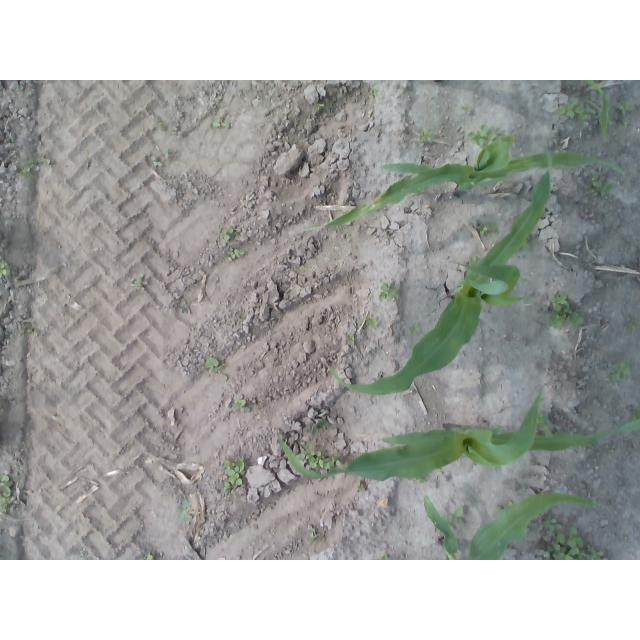Maize: (327, 154, 553, 400), (294, 135, 626, 235), (280, 394, 640, 482), (423, 494, 602, 560), (435, 80, 610, 138)
Weeds: (543, 528, 586, 561), (548, 294, 585, 330), (294, 444, 346, 469), (558, 98, 596, 121), (467, 124, 502, 148), (223, 459, 246, 493), (587, 171, 617, 197), (0, 475, 12, 517), (608, 363, 632, 382), (533, 411, 551, 436), (476, 222, 500, 239), (176, 499, 193, 522), (446, 507, 466, 526), (379, 283, 400, 301), (204, 357, 226, 373), (311, 418, 331, 435), (617, 100, 636, 115), (542, 516, 562, 530), (588, 544, 605, 560), (418, 126, 434, 143), (181, 295, 196, 313), (225, 248, 245, 261), (220, 225, 236, 241), (19, 164, 36, 179), (233, 398, 250, 412), (210, 120, 231, 131), (518, 235, 533, 250), (362, 86, 379, 99), (147, 120, 167, 130), (363, 315, 378, 328), (0, 259, 10, 277), (627, 318, 640, 330), (150, 156, 163, 168), (29, 157, 51, 164), (409, 321, 420, 335), (347, 331, 356, 345), (606, 111, 615, 125), (132, 277, 144, 287), (355, 480, 365, 492), (310, 527, 318, 542), (137, 554, 155, 560), (631, 408, 640, 420), (164, 147, 173, 159), (375, 554, 392, 560), (469, 255, 479, 264), (621, 118, 631, 127), (493, 504, 504, 512), (461, 104, 472, 112), (314, 103, 326, 110), (415, 477, 426, 483), (238, 315, 247, 322), (24, 328, 33, 333)
